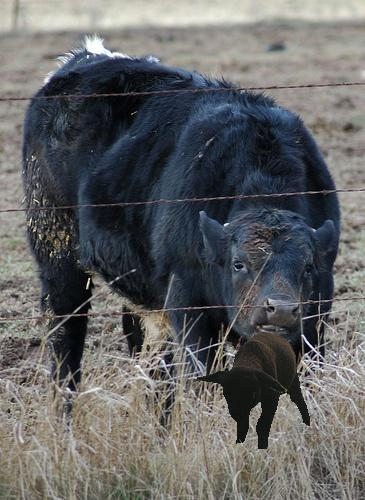tampered: (198, 334, 310, 449)
